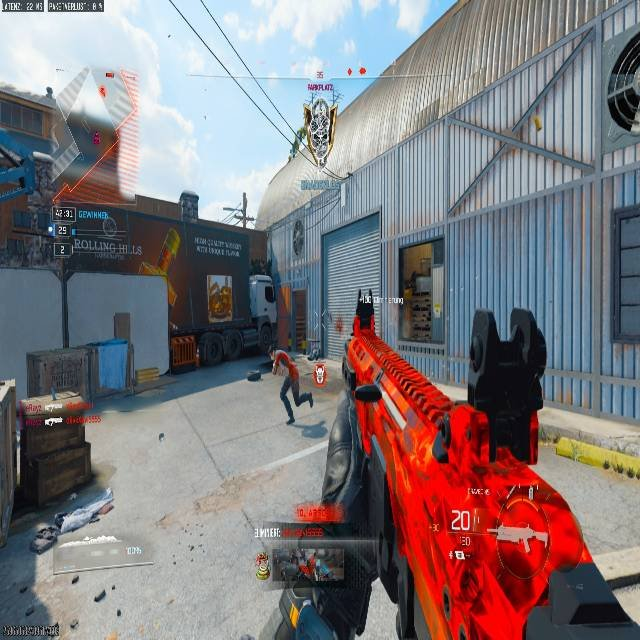player: (267, 344, 315, 425)
